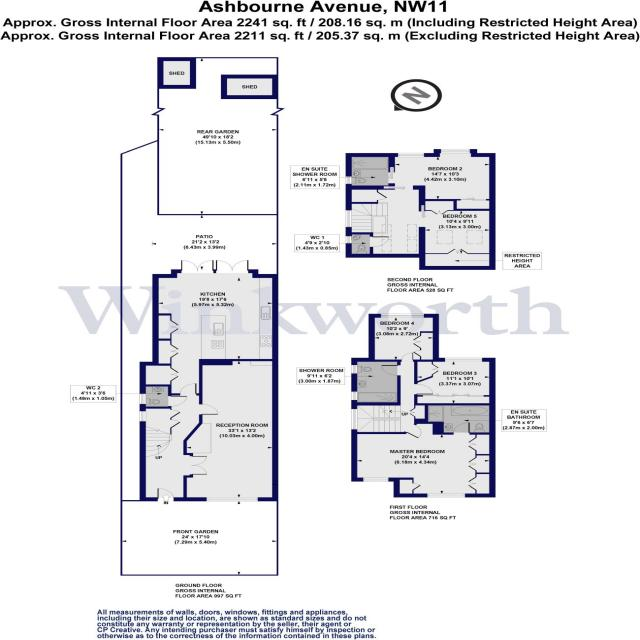DOOR: (403, 423, 423, 440), (379, 365, 402, 377), (413, 383, 436, 395), (157, 488, 176, 502), (452, 421, 471, 435), (369, 236, 391, 248), (178, 383, 198, 396), (167, 396, 188, 407), (198, 404, 219, 415), (400, 352, 414, 362)
DOUBLE DOOR: (180, 258, 215, 273), (215, 259, 250, 273)
ROOM: (152, 260, 279, 396), (182, 358, 279, 502), (350, 418, 498, 498), (387, 149, 496, 211), (412, 357, 496, 406), (418, 208, 496, 254), (368, 313, 440, 362)
WINDOW: (425, 492, 467, 499), (379, 313, 426, 319), (205, 497, 259, 502), (444, 357, 484, 363), (349, 408, 359, 431), (439, 148, 472, 154), (396, 152, 425, 158), (361, 477, 390, 483), (345, 210, 352, 228), (138, 411, 147, 422), (350, 364, 359, 375), (139, 393, 147, 405), (350, 391, 358, 401), (345, 235, 352, 244), (345, 176, 352, 184)
